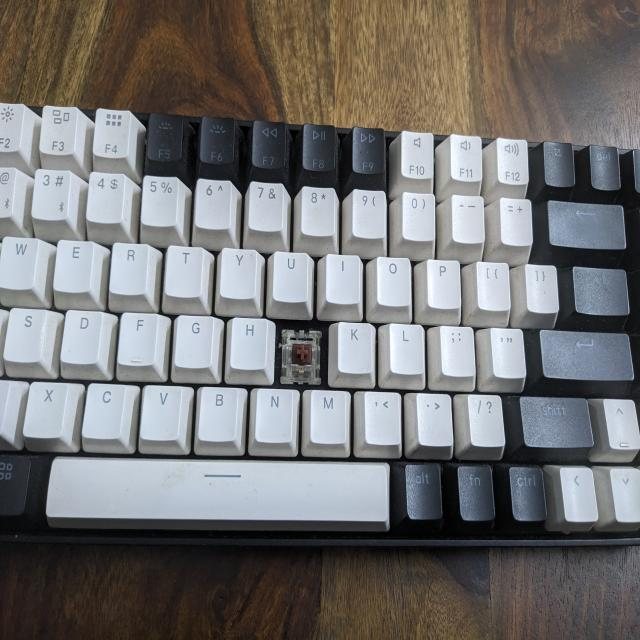C: (280, 323, 324, 377)
